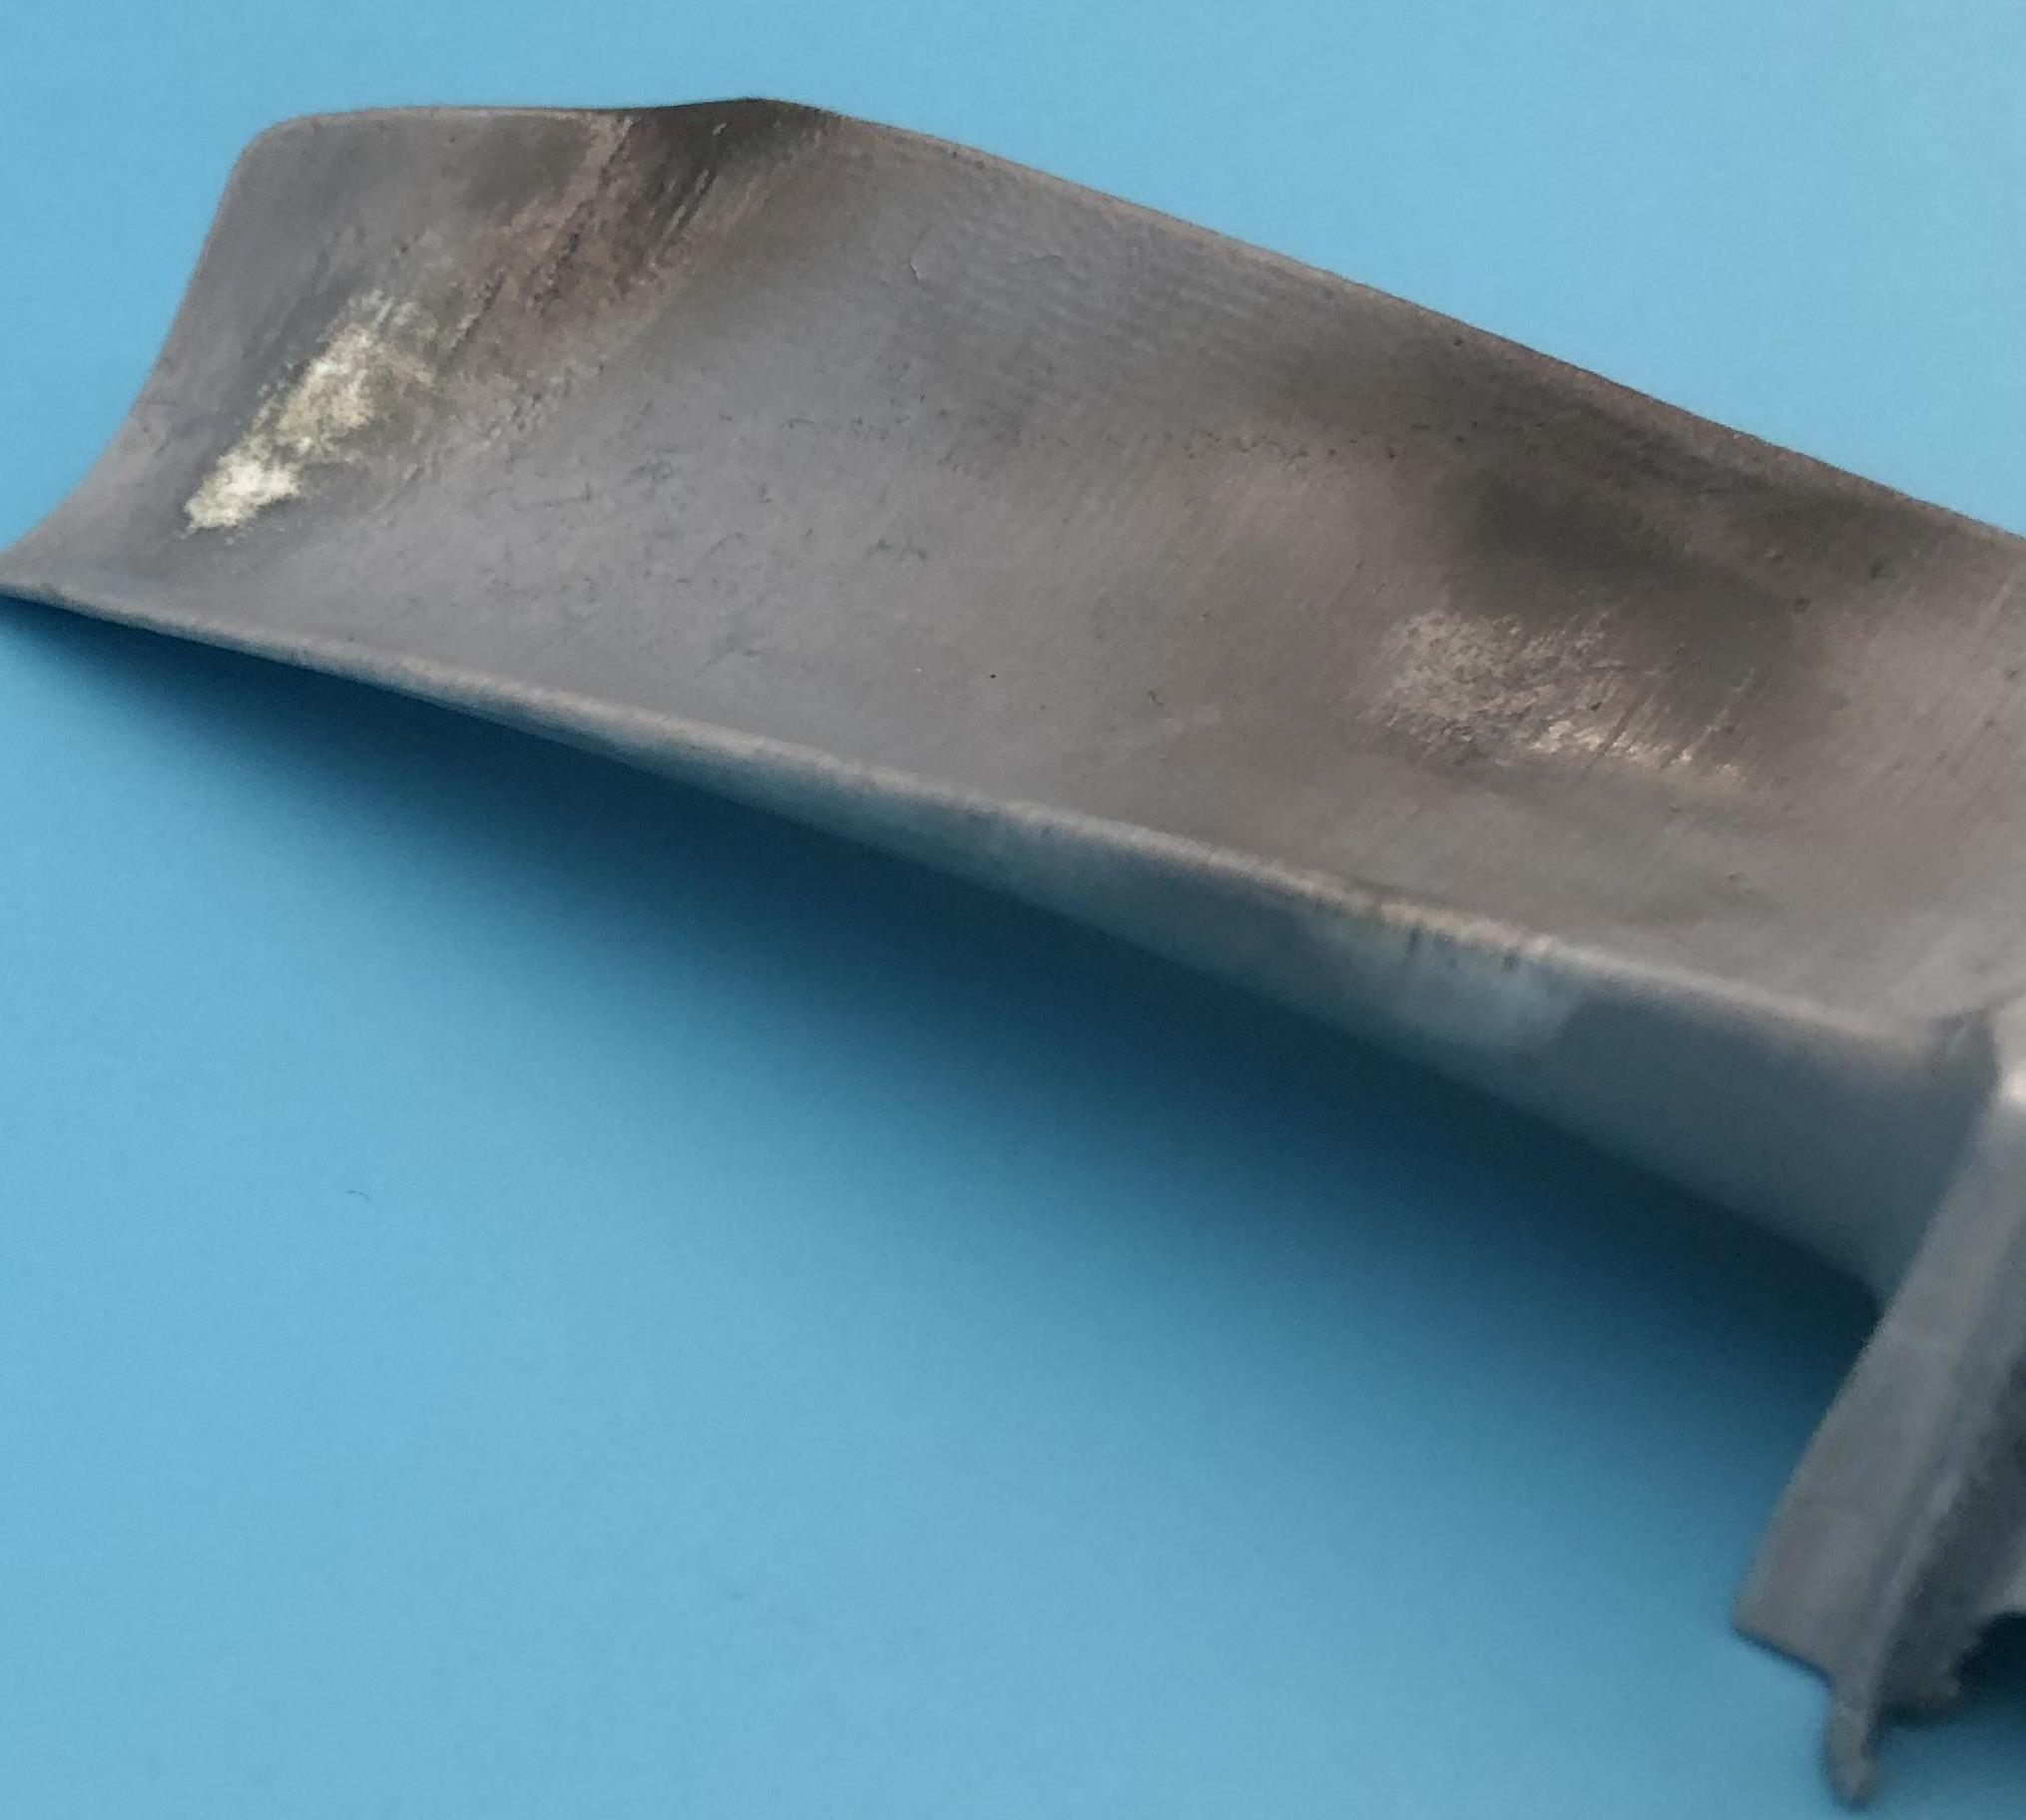ablation: (1411, 383, 1866, 738), (473, 126, 859, 258)
